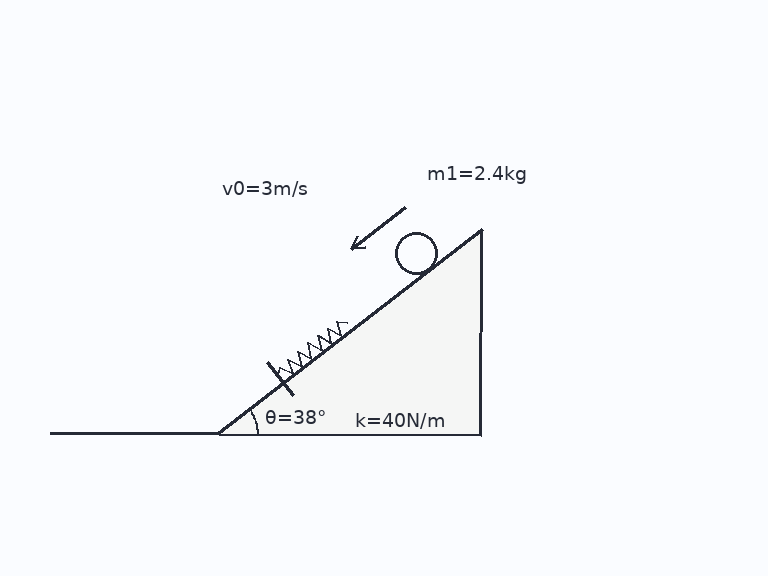ball: (393, 230, 439, 276)
ramp: (216, 226, 483, 436)
spring: (276, 318, 349, 378)
